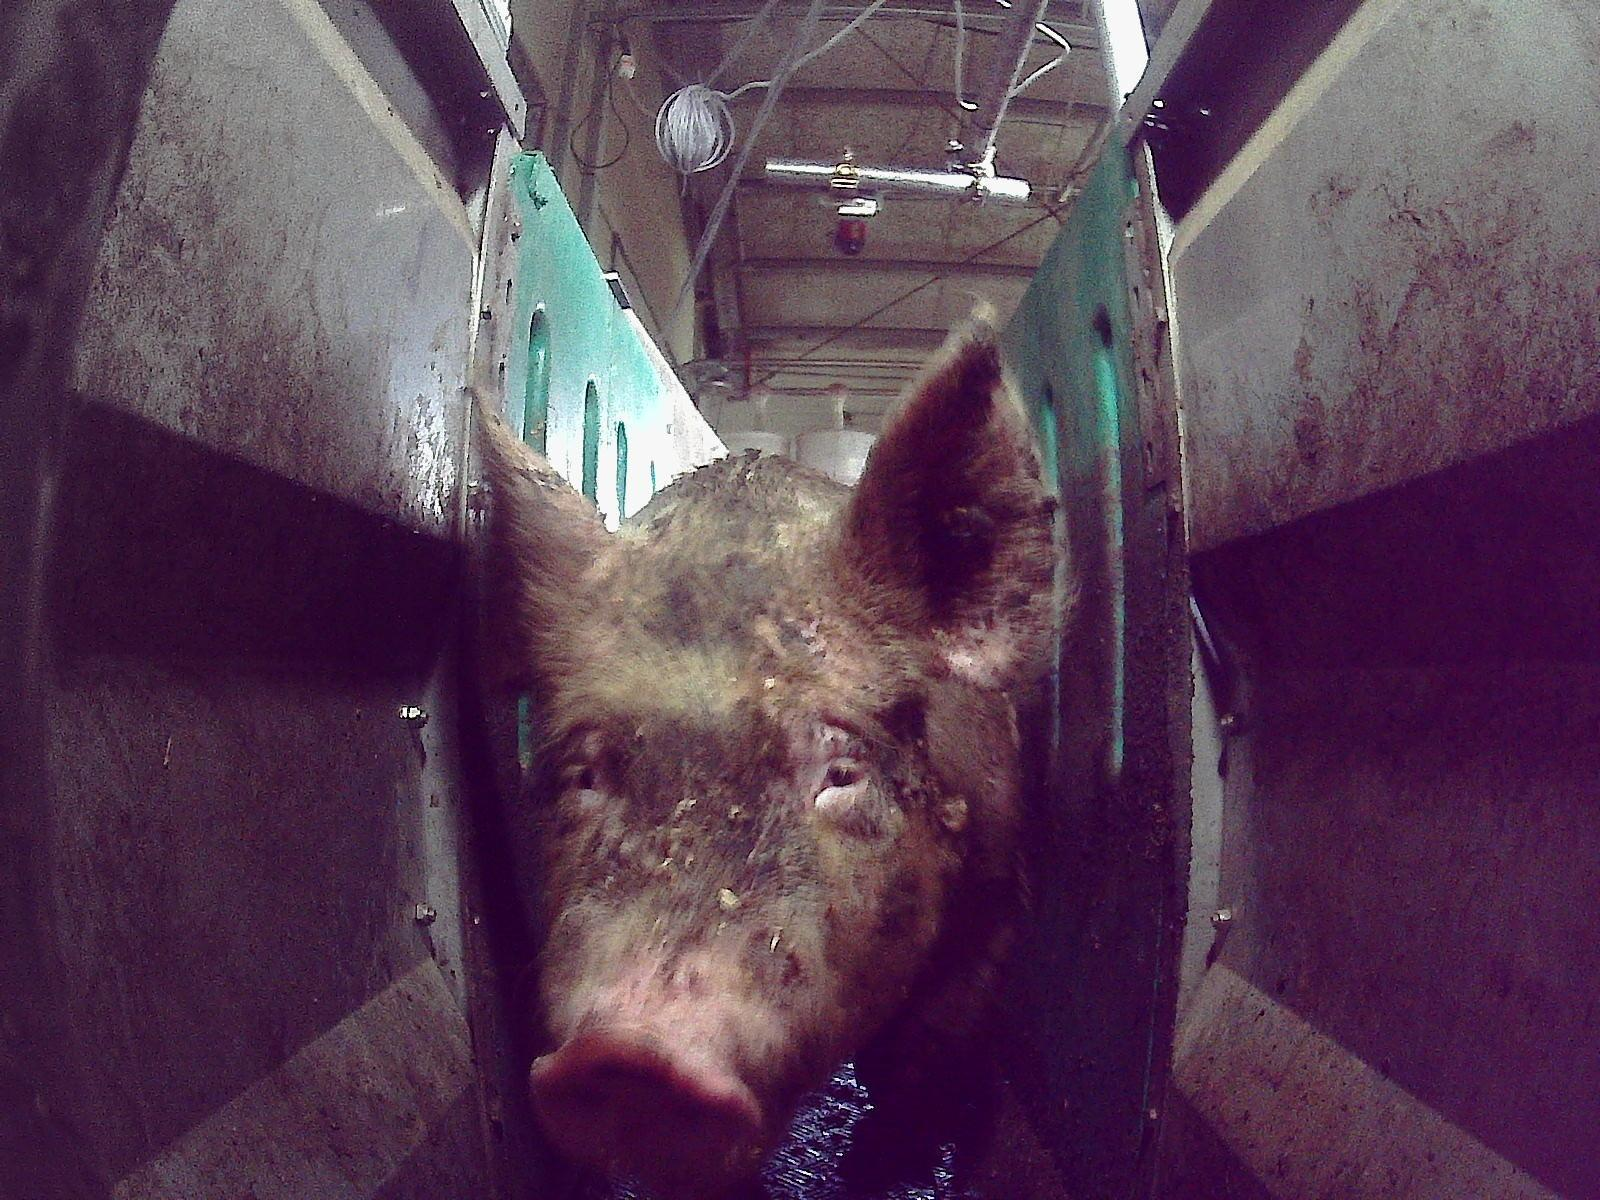Face: (505, 485, 984, 1187)
